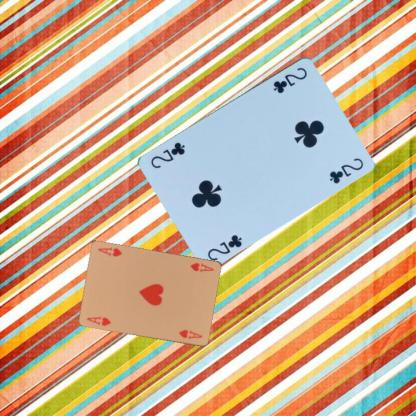2c: (205, 231, 243, 262), (271, 64, 308, 95)
Ah: (84, 313, 113, 327), (188, 260, 215, 273)
